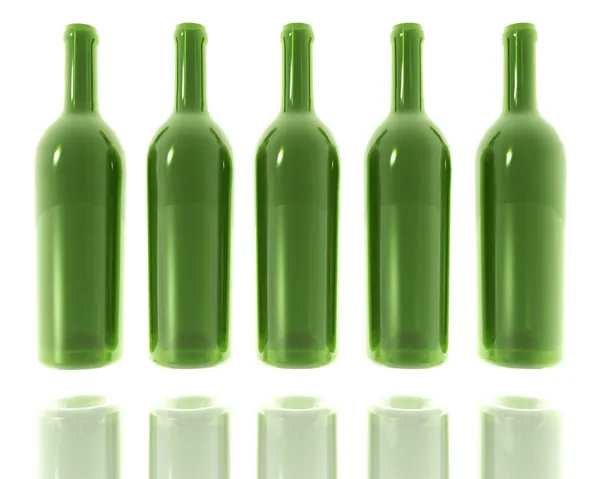glass_bottle: (12, 6, 588, 382)
